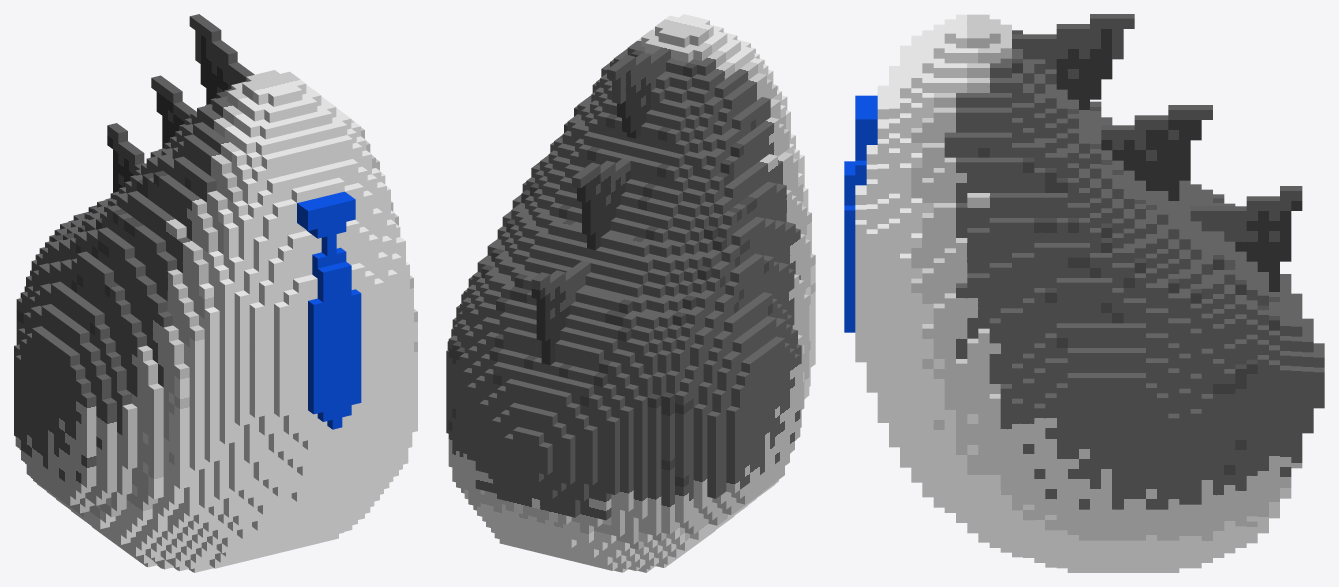
The model's file is blue tie.gltf.
3 renders of one model, left to right at view 1: azimuth 30°, elevation 25°; view 2: azimuth 150°, elevation 25°; view 3: azimuth 270°, elevation 25°, orthographic. The views are drawn at different scales.
Parts seen in each view (by area): view 1: 04_Body_BlueTie-Mesh; view 2: 04_Body_BlueTie-Mesh; view 3: 04_Body_BlueTie-Mesh.
Part boxes in pixels (x1=…): 04_Body_BlueTie-Mesh: x1=14, y1=14, x2=417, y2=572; 04_Body_BlueTie-Mesh: x1=446, y1=14, x2=815, y2=572; 04_Body_BlueTie-Mesh: x1=844, y1=14, x2=1324, y2=572.
Size of the model in its own units: 33 by 51 by 43.
Materials: 1 (1 with a texture image).
